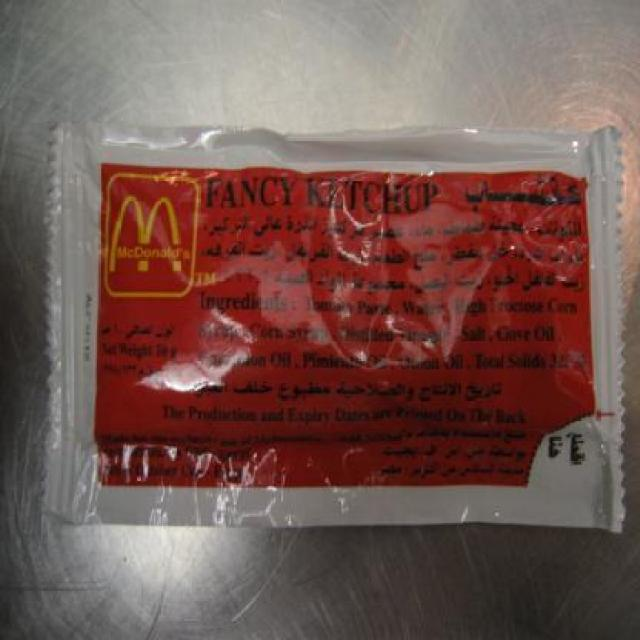plastic bag: (30, 111, 632, 535)
